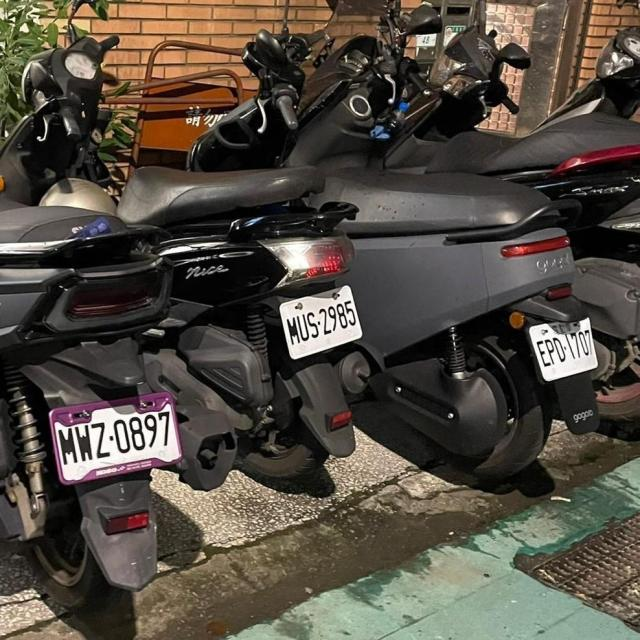W: (42, 386, 194, 487), (269, 280, 372, 363), (523, 310, 607, 386)
